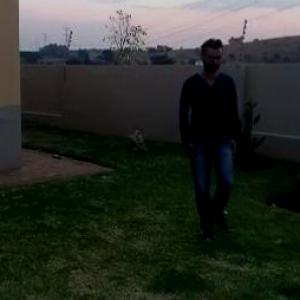follow: (173, 35, 226, 224)
